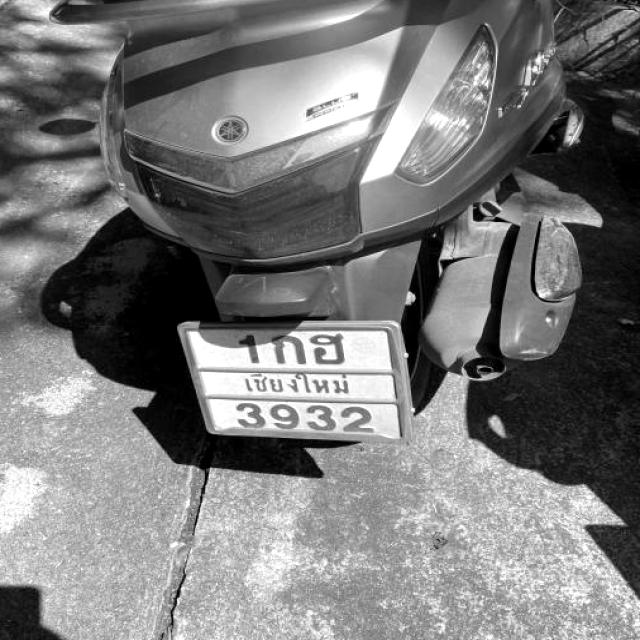letters: (270, 324, 307, 371), (237, 324, 267, 372), (313, 332, 348, 371), (348, 404, 378, 438), (234, 396, 264, 428), (306, 402, 332, 438), (269, 397, 293, 433)
license-plate: (184, 326, 407, 441)
province: (239, 372, 358, 397)
